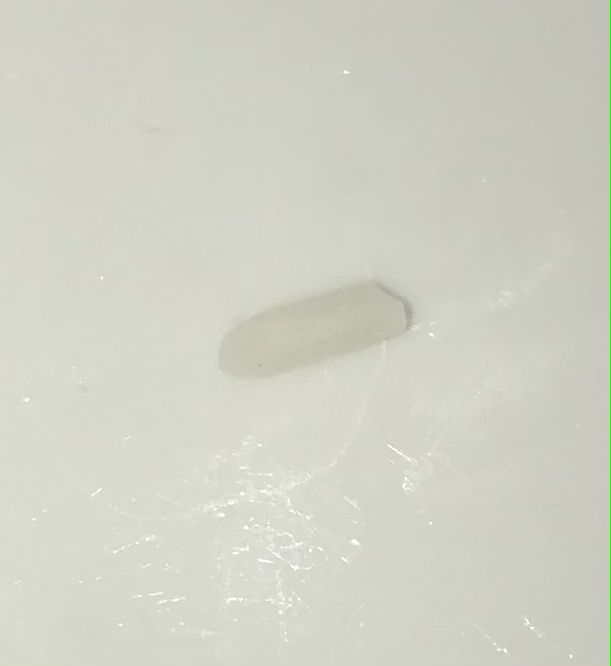Gao Thom Go Cong: (208, 255, 420, 387)
